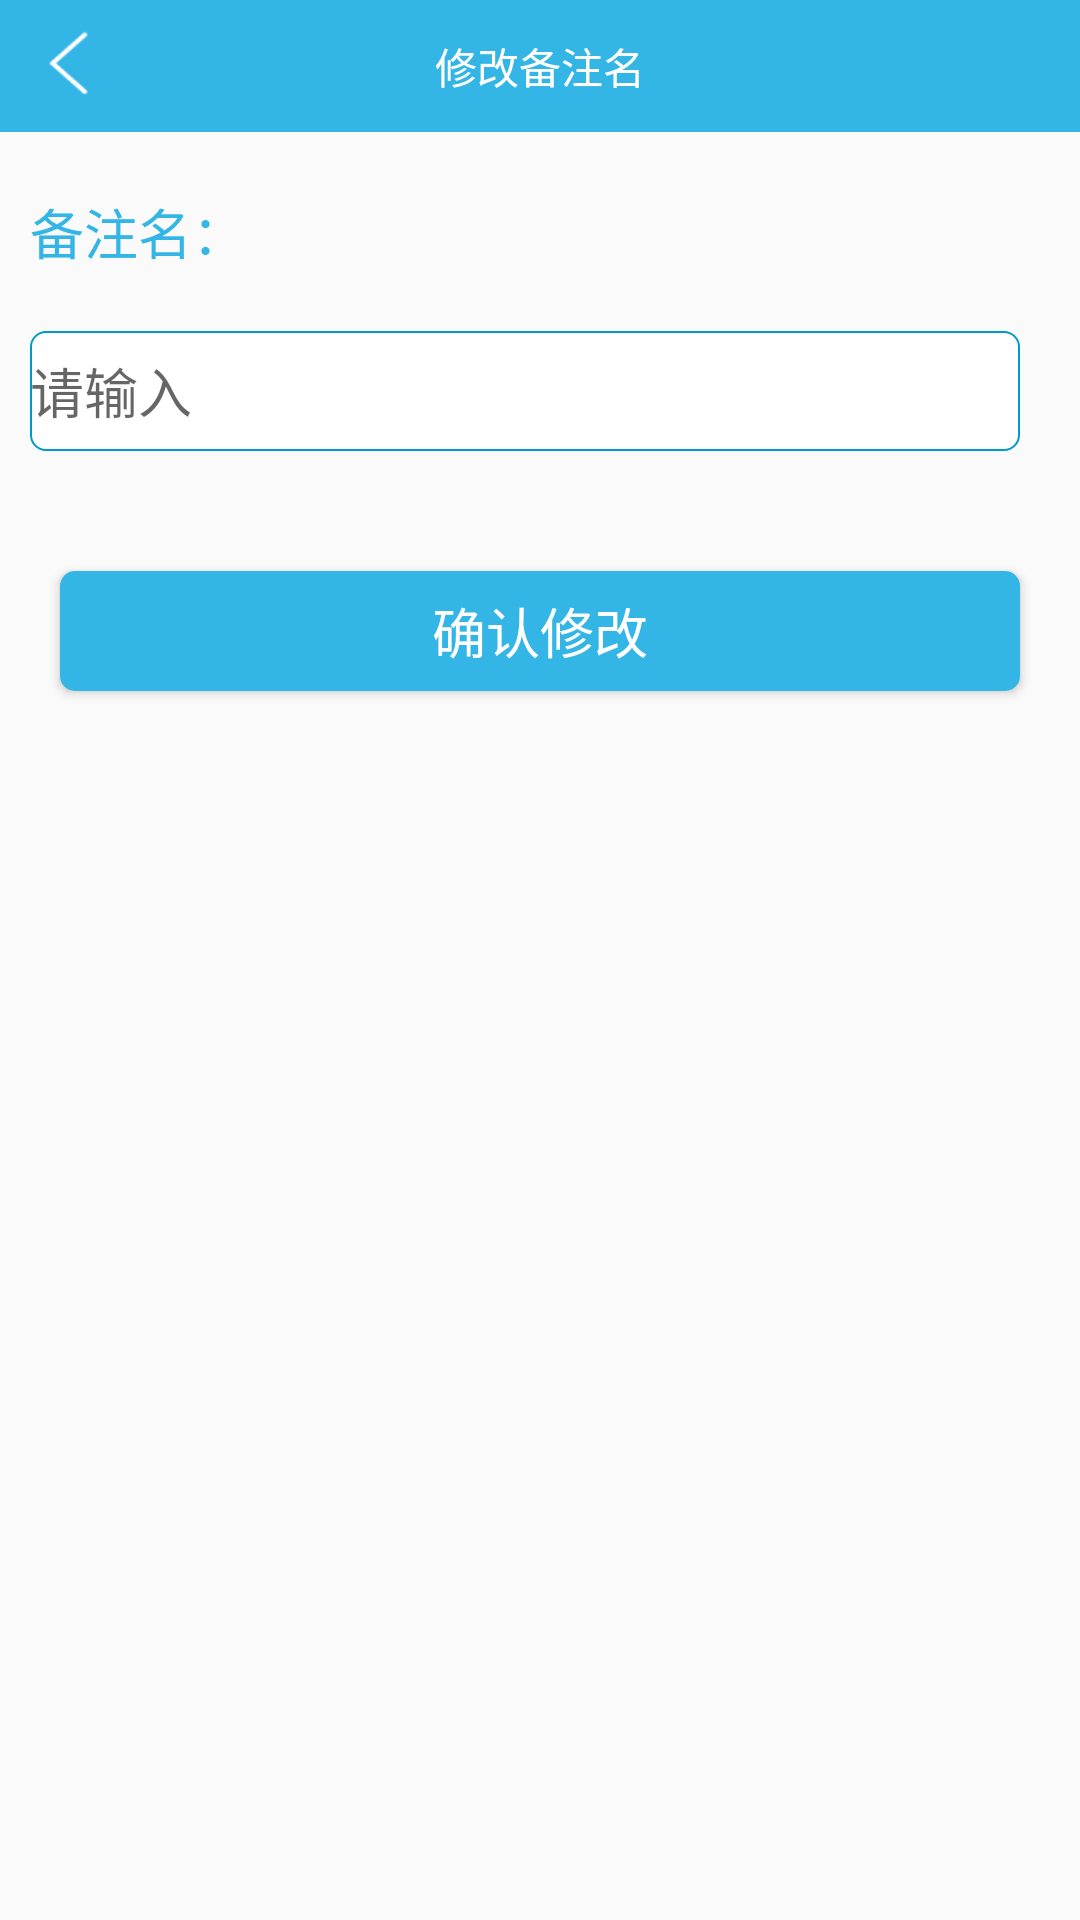

Locate icon controls on the screen. Image size 1080px×1920px, boxes as region(x1, y1, x2, y2).
back: region(49, 32, 88, 94)
